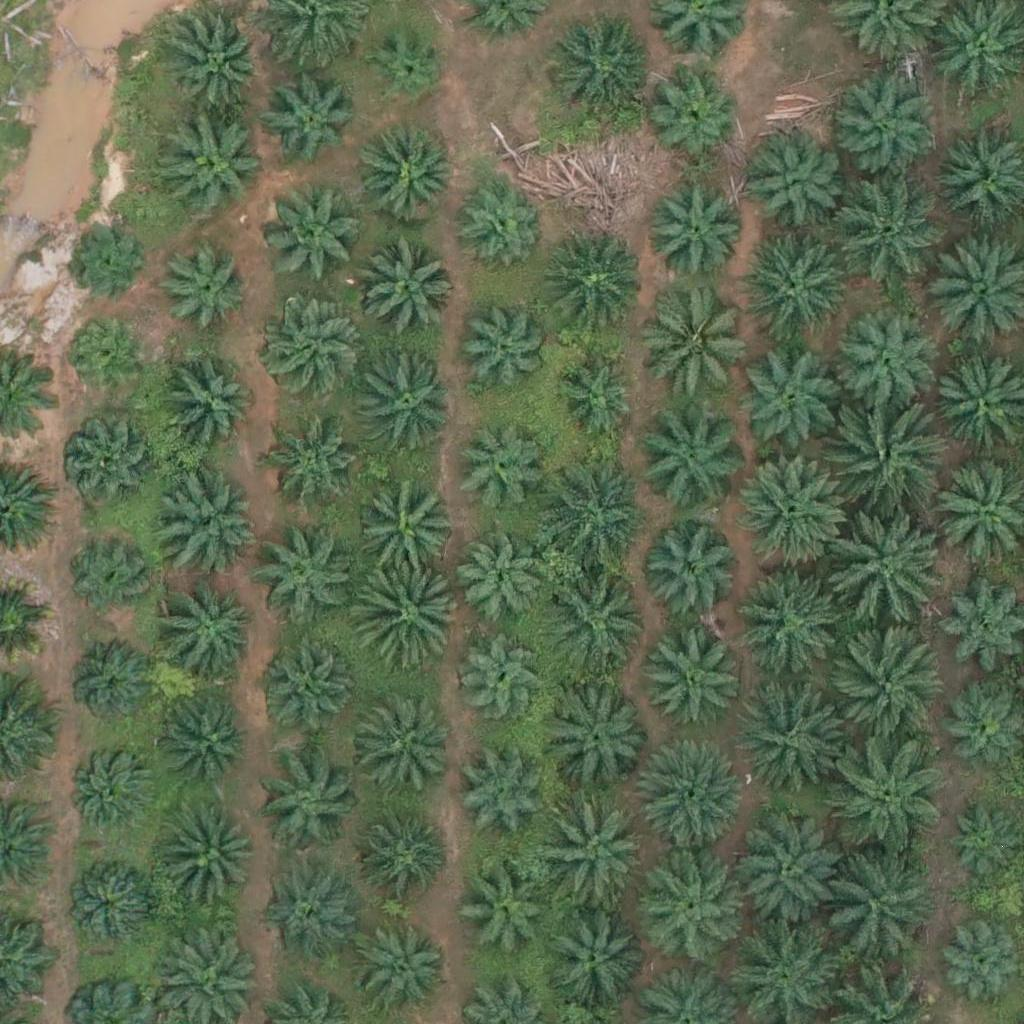Kelapa_Sawit: (736, 678, 849, 792), (826, 404, 939, 517), (835, 633, 948, 746), (729, 814, 842, 927), (736, 568, 849, 681), (633, 405, 746, 518), (635, 740, 748, 853), (541, 802, 654, 915), (539, 560, 652, 673), (540, 460, 653, 573), (734, 226, 847, 339), (830, 738, 942, 852), (350, 559, 462, 673), (832, 516, 944, 629), (821, 848, 933, 961), (735, 452, 847, 565), (833, 176, 945, 289), (827, 66, 939, 179), (643, 289, 755, 402), (638, 523, 738, 624), (646, 627, 746, 728), (642, 864, 742, 965), (538, 908, 638, 1009), (549, 691, 649, 792), (348, 916, 448, 1017), (361, 483, 461, 584), (253, 531, 353, 632), (255, 641, 355, 742), (160, 577, 260, 678), (837, 312, 937, 413), (744, 133, 844, 234), (737, 347, 837, 448), (649, 181, 749, 282), (548, 16, 648, 117), (261, 297, 361, 398), (153, 238, 253, 339), (349, 694, 449, 794), (258, 751, 358, 851), (258, 875, 358, 975), (159, 358, 259, 458), (162, 474, 262, 574), (163, 811, 263, 911), (61, 856, 161, 956), (543, 235, 643, 335), (357, 124, 457, 224), (357, 237, 457, 337), (356, 352, 456, 452), (265, 182, 365, 282), (169, 12, 269, 112), (160, 118, 260, 218), (452, 427, 540, 515), (456, 539, 544, 627), (461, 865, 549, 953), (354, 810, 442, 898), (275, 428, 363, 516), (162, 694, 250, 782), (63, 315, 151, 403), (67, 533, 155, 621), (68, 645, 156, 733), (68, 750, 156, 838), (552, 348, 640, 436), (458, 636, 545, 724), (459, 755, 546, 843), (65, 416, 152, 504), (652, 68, 739, 156), (459, 302, 546, 390), (456, 179, 543, 267), (266, 79, 353, 167), (65, 216, 152, 304), (370, 28, 445, 104), (948, 805, 1023, 881)
